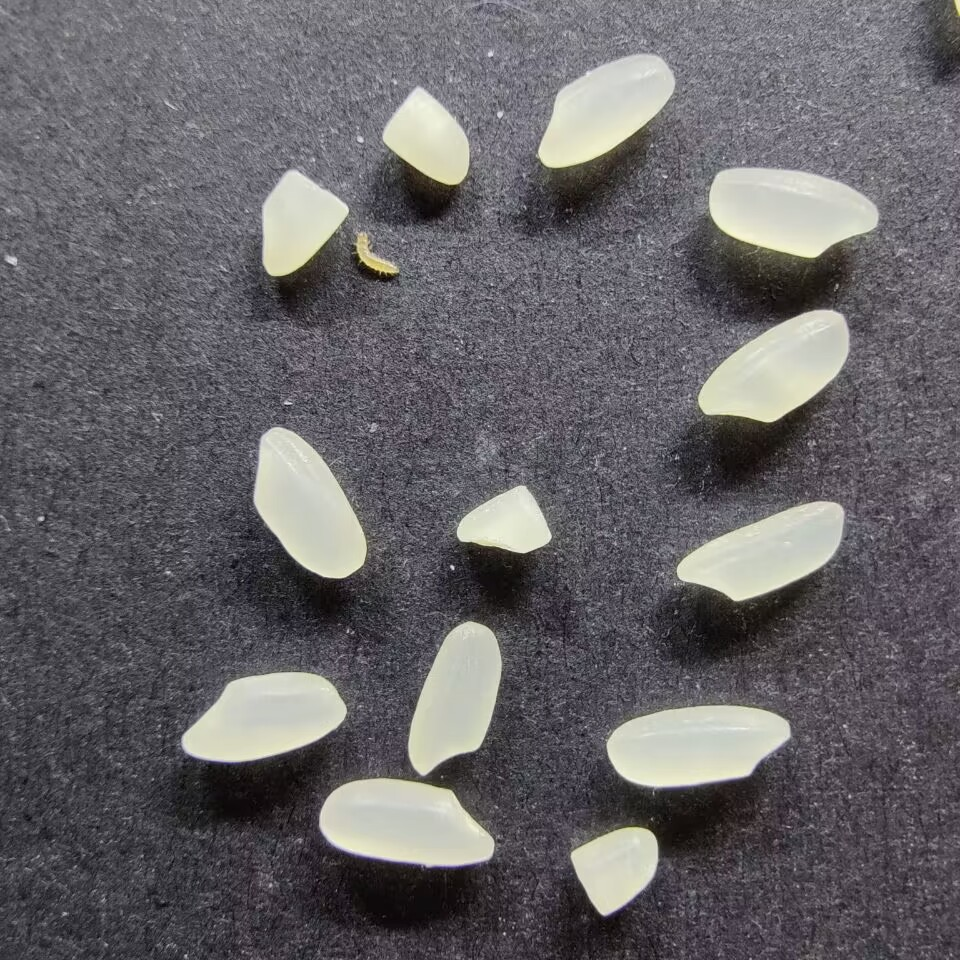broken: (259, 167, 350, 279), (377, 86, 475, 187), (567, 825, 660, 918), (453, 483, 553, 555)
others: (350, 226, 401, 278)
rice: (251, 425, 370, 580), (696, 307, 851, 424), (674, 498, 846, 603), (535, 51, 677, 170), (705, 166, 880, 260), (317, 777, 495, 868), (603, 703, 793, 788), (179, 670, 347, 764), (405, 617, 502, 777)
